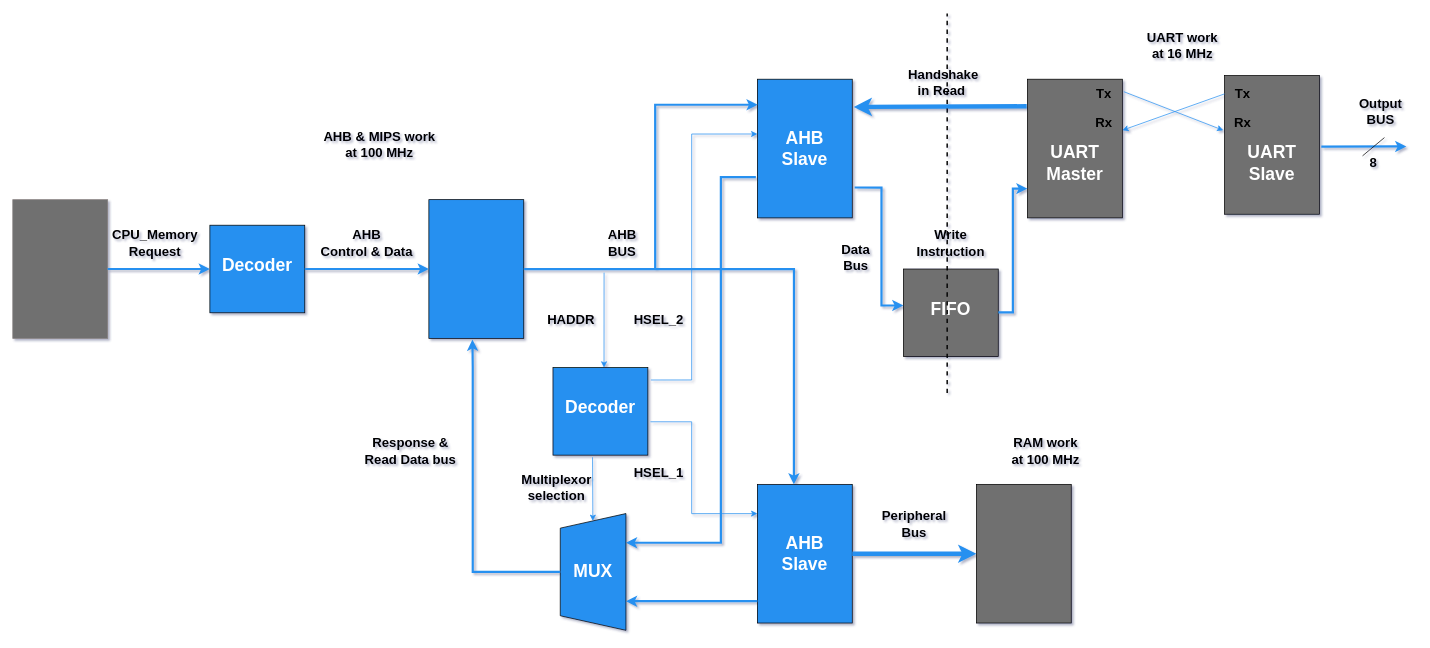
Image size: 1430x648. Some labels were removed from this diagram. The box of each missing label's shape, as (x1, y1, x2, y2) in pixels:
AHB Master: (428, 199, 524, 338)
Pipeline MIPS: (12, 199, 108, 338)
RAM: (976, 484, 1071, 623)
